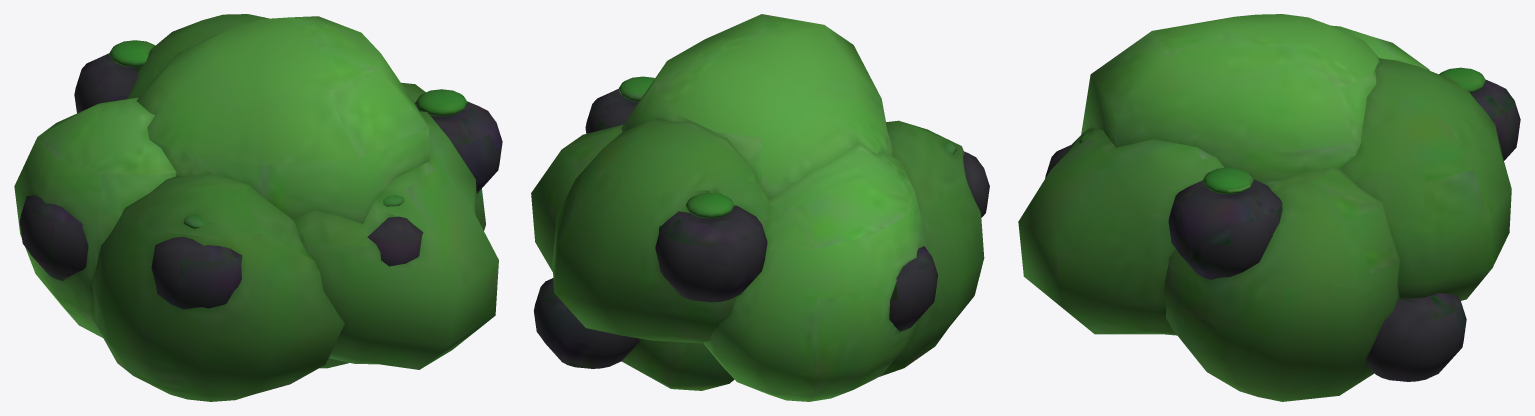
The model's file is crop_black_bean.glb.
3 views of the same model, side by side, from view 1: azimuth 30°, elevation 25°; view 2: azimuth 150°, elevation 25°; view 3: azimuth 270°, elevation 25° (orthographic). The views are drawn at different scales.
Visible parts, largest first — view 1: crop_black_bean, fruit; view 2: crop_black_bean, fruit; view 3: crop_black_bean, fruit.
Boxes of the visible parts, x1,y1,x2,y2 form: crop_black_bean: [14, 14, 498, 401]; fruit: [19, 53, 502, 309]; crop_black_bean: [531, 14, 984, 401]; fruit: [534, 88, 989, 368]; crop_black_bean: [1018, 14, 1511, 401]; fruit: [1045, 80, 1520, 381].
Bounding box in the file's own units: 0.2659 × 0.2091 × 0.275.
1 material, 1 textured.
